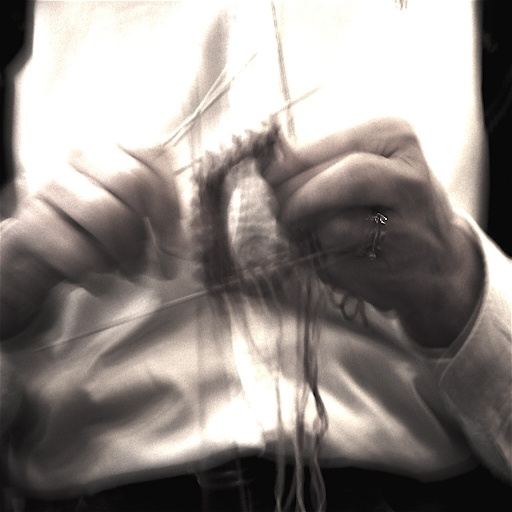hand: (257, 115, 460, 309), (10, 131, 188, 298)
